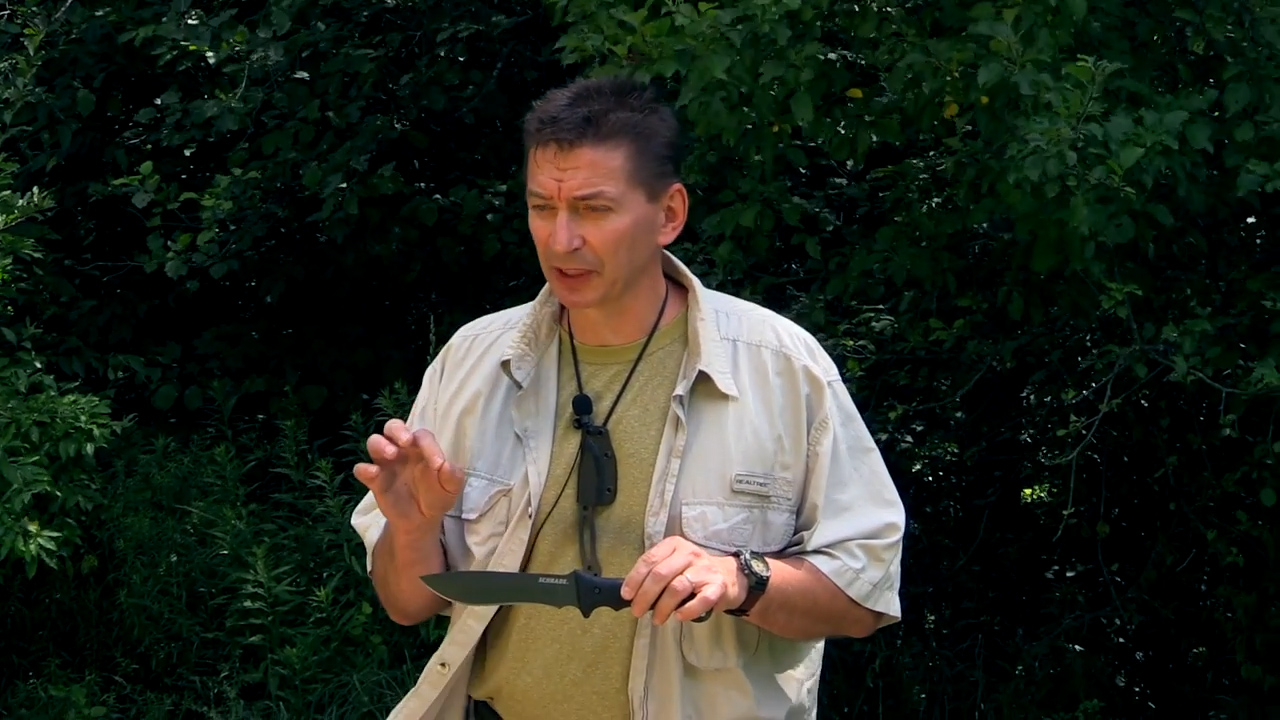knife: (416, 533, 720, 627)
